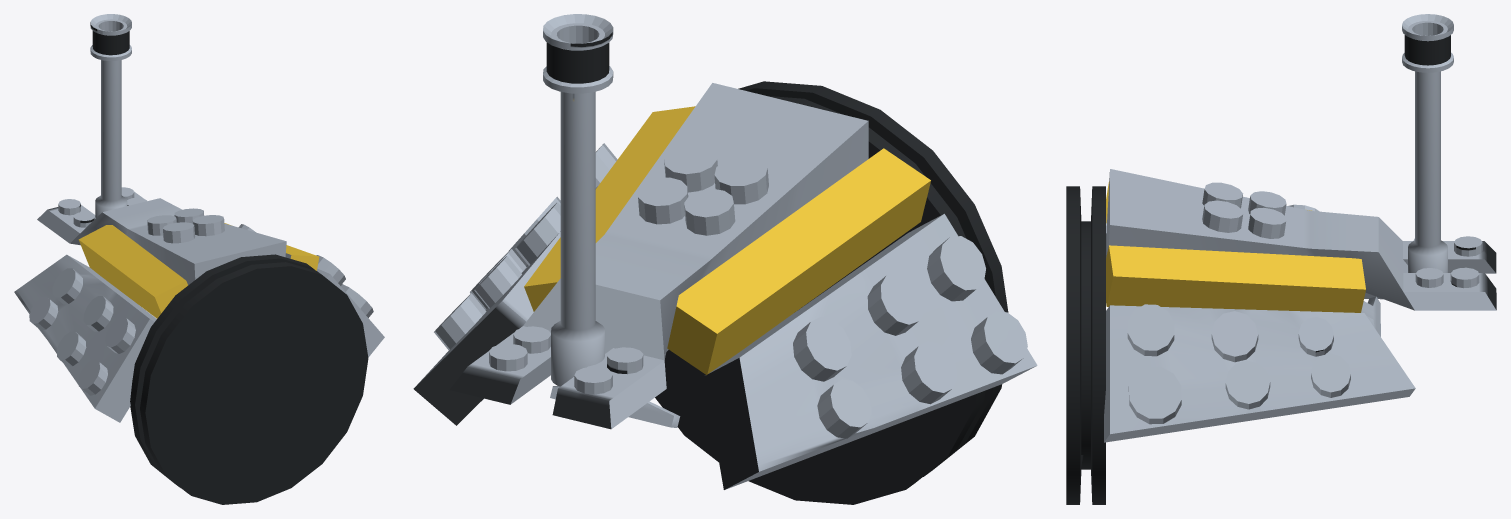
File: Lv1_CargoBay_Turrent.fbx
3 renders of one model, left to right at view 1: azimuth 30°, elevation 25°; view 2: azimuth 150°, elevation 25°; view 3: azimuth 270°, elevation 25°, orthographic. The views are drawn at different scales.
Parts seen in each view (by area): view 1: Turrent; view 2: Turrent; view 3: Turrent.
Part boxes in pixels (<box>): Turrent: <box>14,14,384,504</box>; Turrent: <box>413,14,1037,504</box>; Turrent: <box>1066,14,1496,504</box>.
Size of the model in its own units: 264 by 320 by 268.
